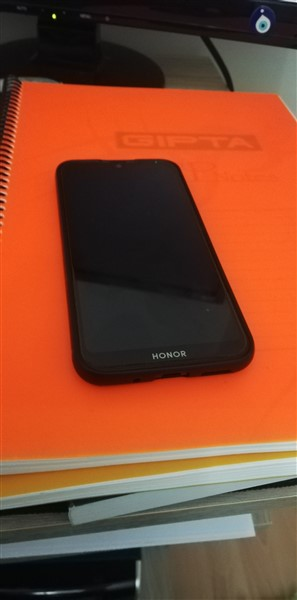telefon: (52, 153, 258, 387)
